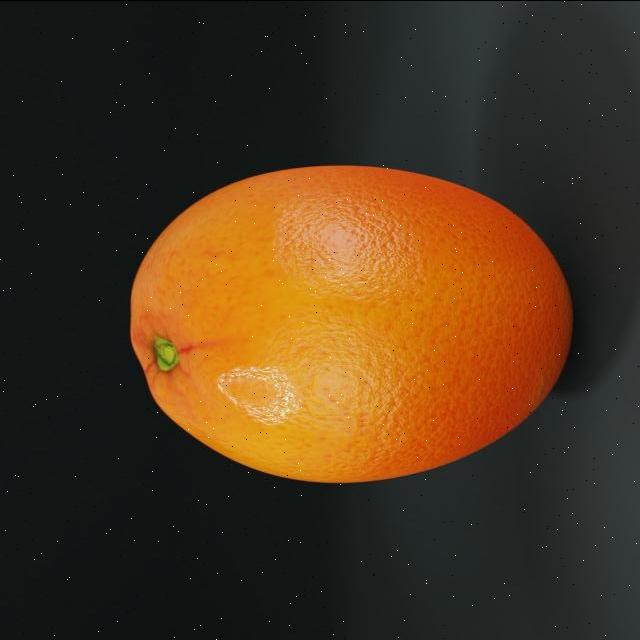Orange: (127, 163, 574, 485)
